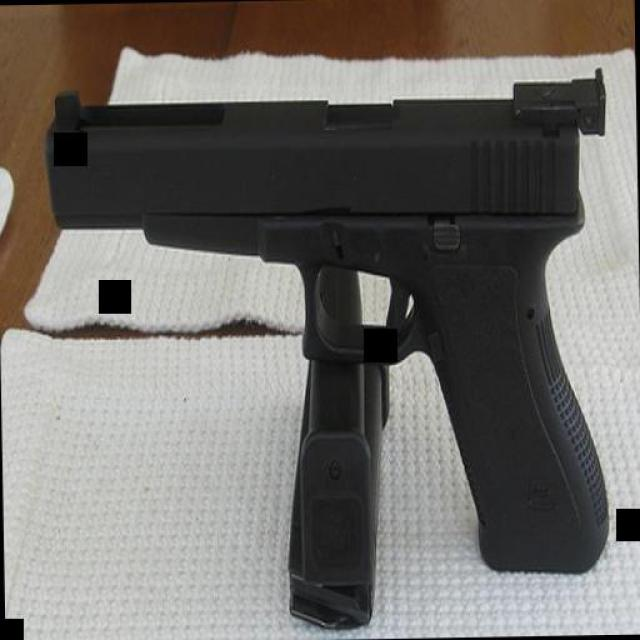gun: (42, 66, 612, 585)
